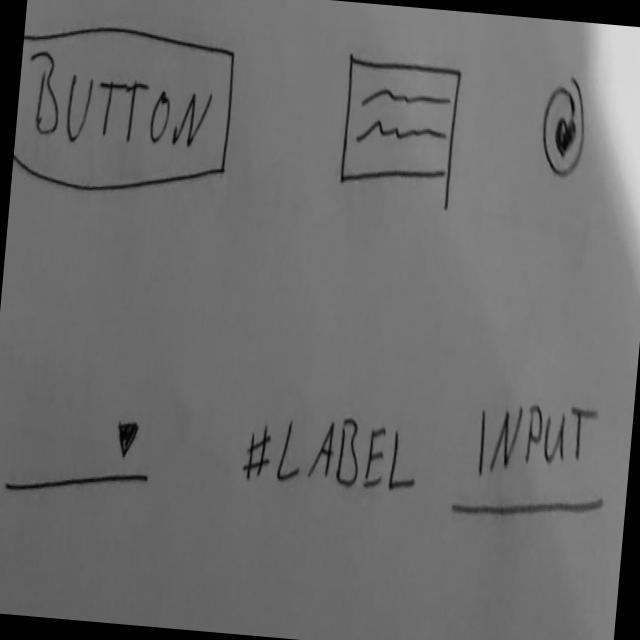button: (12, 13, 241, 206)
icon-button: (539, 73, 592, 183)
input: (448, 389, 615, 533)
label: (239, 405, 426, 507)
select: (3, 401, 158, 511)
textarea: (338, 48, 465, 199)
